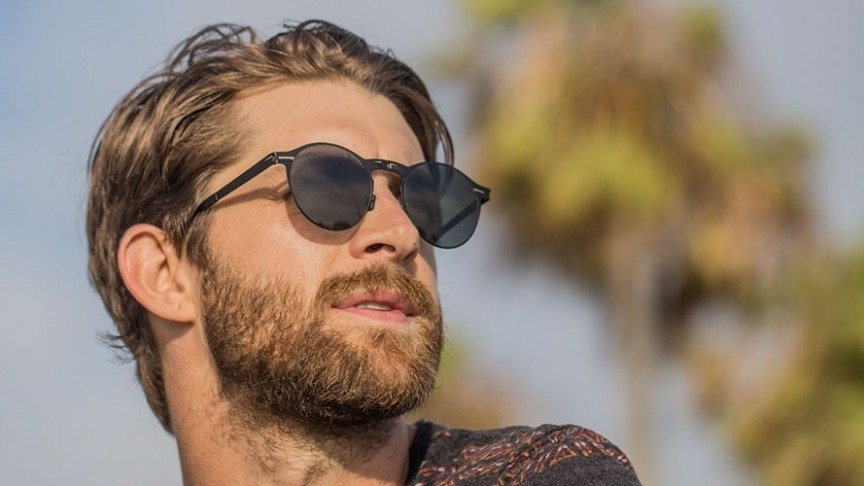face_no_mask: (154, 50, 471, 432)
